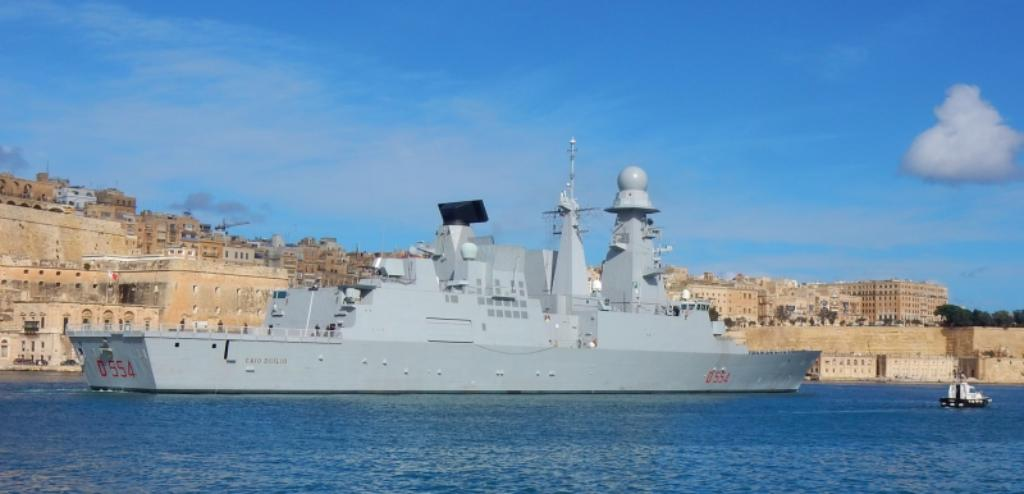PassengerShip: (938, 378, 994, 412)
